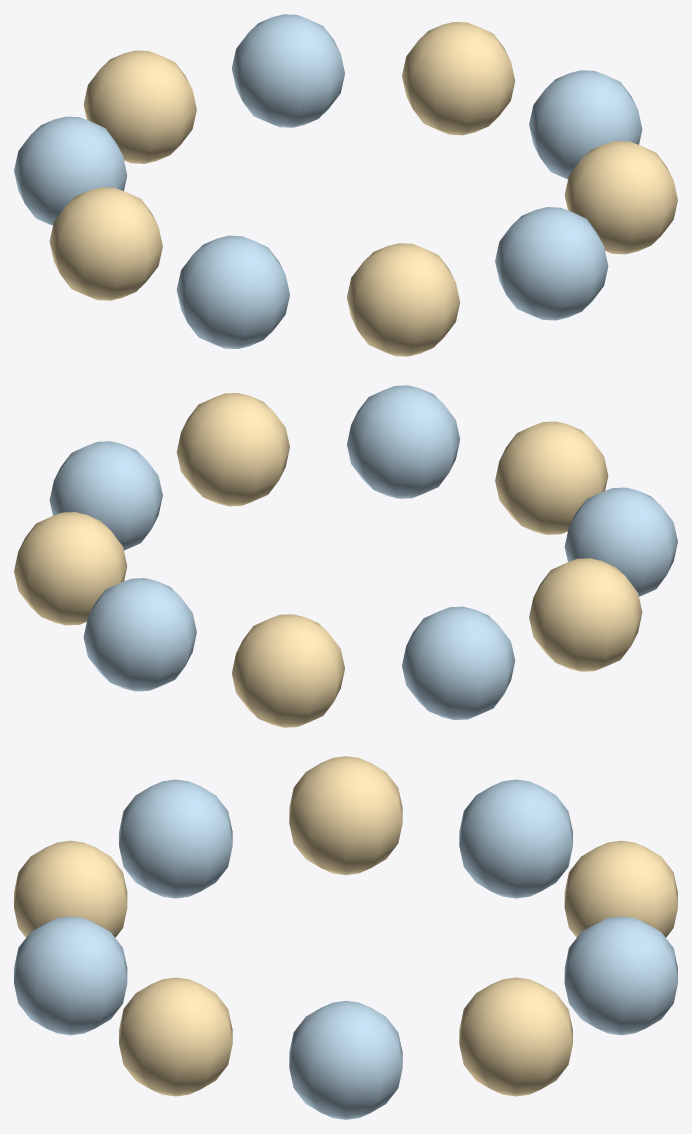
Rendered from bead_necklace.glb.
3 views of the same model, one above another, from view 1: azimuth 30°, elevation 25°; view 2: azimuth 150°, elevation 25°; view 3: azimuth 270°, elevation 25° (orthographic). The views are drawn at different scales.
Visible parts, largest first — view 1: Bead Necklace; view 2: Bead Necklace; view 3: Bead Necklace.
Boxes of the visible parts, x1,y1,x2,y2 form: Bead Necklace: (14, 14, 677, 356); Bead Necklace: (14, 385, 677, 727); Bead Necklace: (14, 756, 677, 1119).
Bounding box in the file's own units: 0.41 × 0.07 × 0.3899.
